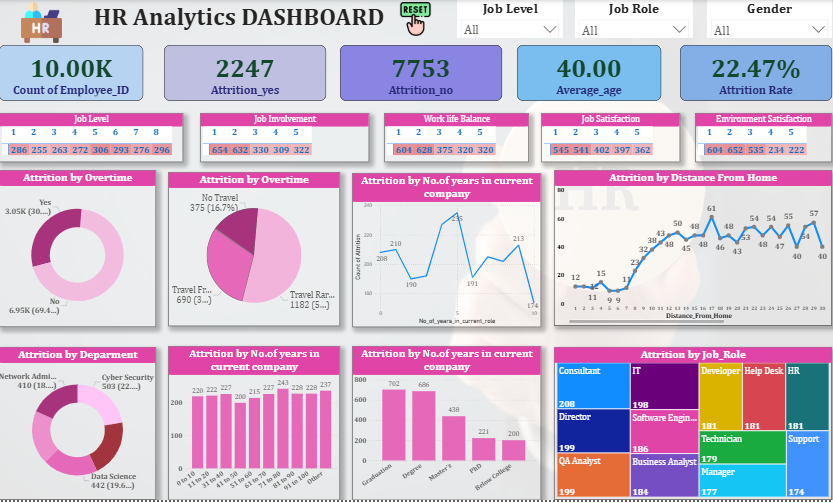

What the dashboard file says about the page in this screenshot:
{"tool":"powerbi","page":{"name":"Page 1","canvas":[2000,1200],"ordinal":0},"visuals":[{"type":"card","fields":{"Values":["CountNonNull(HR_Attrition_dataset.Employee_ID)"]},"box":[55.2,108,321.6,134.4],"z":0},{"type":"card","fields":{"Values":["HR_Attrition_dataset.Attrition_yes"]},"box":[475.2,108,304.8,134.4],"z":1000},{"type":"card","fields":{"Values":["HR_Attrition_dataset.Attrition_no"]},"box":[885.6,108,326.4,134.4],"z":2000},{"type":"card","fields":{"Values":["HR_Attrition_dataset.Average_age"]},"box":[1272,108,333.6,134.4],"z":3000},{"type":"card","fields":{"Values":["HR_Attrition_dataset.Attrition Rate"]},"box":[1680,108,288,134.4],"z":4000},{"type":"donutChart","title":"Attrition by Deparment","fields":{"Category":["HR_Attrition_dataset.Department"],"Y":["HR_Attrition_dataset.Attrition_yes"]},"box":[31.5,808.4,346.5,367.5],"z":5000},{"type":"treemap","title":"Attrition by Job_Role","fields":{"Values":["HR_Attrition_dataset.Attrition_yes"],"Group":["HR_Attrition_dataset.Job_Role"]},"box":[1300.8,808.8,667.2,367.2],"z":6000},{"type":"lineChart","title":"Attrition by Distance From Home","fields":{"Y":["HR_Attrition_dataset.Attrition_yes"],"Category":["HR_Attrition_dataset.Distance_From_Home"]},"box":[1300.8,408,667.2,374.4],"z":6001},{"type":"donutChart","title":"Attrition by Overtime","fields":{"Category":["HR_Attrition_dataset.Overtime"],"Y":["CountNonNull(HR_Attrition_dataset.Education)"]},"box":[31.5,406.8,346.5,375.3],"z":6002},{"type":"pivotTable","title":"Environment Satisfaction","fields":{"Values":["HR_Attrition_dataset.Attrition_yes"],"Columns":["HR_Attrition_dataset.Environment_Satisfaction"]},"box":[1634.4,271.2,328.8,117.6],"z":6003},{"type":"pivotTable","title":"Job Satisfaction","fields":{"Values":["HR_Attrition_dataset.Attrition_yes"],"Columns":["HR_Attrition_dataset.Job_Satisfaction"]},"box":[1288.4,271.2,300,117.6],"z":6004},{"type":"pivotTable","title":"Work life Balance","fields":{"Values":["HR_Attrition_dataset.Attrition_yes"],"Columns":["HR_Attrition_dataset.Work_life_balance"]},"box":[942.4,271.2,300,117.6],"z":6005},{"type":"pieChart","title":"Attrition by Overtime","fields":{"Category":["HR_Attrition_dataset.Business_Travel"],"Y":["HR_Attrition_dataset.Attrition_yes"]},"box":[396.3,412.1,309.7,370.1],"z":6006},{"type":"lineChart","title":"Attrition by No.of years in current company","fields":{"Y":["CountNonNull(HR_Attrition_dataset.Attrition)"],"Category":["HR_Attrition_dataset.No_of_years_in_current_role"]},"box":[721.8,412.1,551.2,372.7],"z":6007},{"type":"columnChart","title":"Attrition by No.of years in current company","fields":{"Y":["HR_Attrition_dataset.Attrition_yes"],"Category":["HR_Attrition_dataset.Salary_Hike_in_percent (groups)"]},"box":[396.3,808.4,412.1,370.1],"z":6008},{"type":"columnChart","title":"Attrition by No.of years in current company","fields":{"Y":["HR_Attrition_dataset.Attrition_yes"],"Category":["HR_Attrition_dataset.Education"]},"box":[818.9,808.4,454.1,370.1],"z":6009},{"type":"pivotTable","title":"Job Involvement","fields":{"Values":["HR_Attrition_dataset.Attrition_yes"],"Columns":["HR_Attrition_dataset.Job_Involvement"]},"box":[597.2,270.3,299.2,118.1],"z":6010},{"type":"pivotTable","title":"Job Level","fields":{"Values":["HR_Attrition_dataset.Attrition_yes"],"Columns":["HR_Attrition_dataset.Job_Level"]},"box":[55.1,270.3,496.1,118.1],"z":6011},{"type":"textbox","box":[204.7,0,745.4,91.9],"z":6012},{"type":"image","box":[31.5,13.1,204.7,78.7],"z":6013},{"type":"slicer","title":"Job Role","fields":{"Values":["HR_Attrition_dataset.Job_Role"]},"box":[1044.6,0,228.3,91.9],"z":6014},{"type":"slicer","title":"Job Role","fields":{"Values":["HR_Attrition_dataset.Job_Role"]},"box":[1359.6,0,228.3,91.9],"z":6015},{"type":"slicer","title":"Job Role","fields":{"Values":["HR_Attrition_dataset.Gender"]},"box":[1635.2,0,228.3,91.9],"z":6016}]}

Visuals, with their boxes in screenshot pixels (x1, y1, x2, y2), scaled from the page's 2000x1200 canvas onto the 833x503 screenshot:
card - CountNonNull(HR_Attrition_dataset.Employee_ID): select_region(23, 45, 157, 102)
card - HR_Attrition_dataset.Attrition_yes: select_region(198, 45, 325, 102)
card - HR_Attrition_dataset.Attrition_no: select_region(369, 45, 505, 102)
card - HR_Attrition_dataset.Average_age: select_region(530, 45, 669, 102)
card - HR_Attrition_dataset.Attrition Rate: select_region(700, 45, 820, 102)
"Attrition by Deparment" donutChart: select_region(13, 339, 157, 493)
"Attrition by Job_Role" treemap: select_region(542, 339, 820, 493)
"Attrition by Distance From Home" lineChart: select_region(542, 171, 820, 328)
"Attrition by Overtime" donutChart: select_region(13, 171, 157, 328)
"Environment Satisfaction" pivotTable: select_region(681, 114, 818, 163)
"Job Satisfaction" pivotTable: select_region(537, 114, 662, 163)
"Work life Balance" pivotTable: select_region(393, 114, 517, 163)
"Attrition by Overtime" pieChart: select_region(165, 173, 294, 328)
"Attrition by No.of years in current company" lineChart: select_region(301, 173, 530, 329)
"Attrition by No.of years in current company" columnChart: select_region(165, 339, 337, 494)
"Attrition by No.of years in current company" columnChart: select_region(341, 339, 530, 494)
"Job Involvement" pivotTable: select_region(249, 113, 373, 163)
"Job Level" pivotTable: select_region(23, 113, 230, 163)
textbox: select_region(85, 0, 396, 39)
image: select_region(13, 5, 98, 38)
"Job Role" slicer: select_region(435, 0, 530, 39)
"Job Role" slicer: select_region(566, 0, 661, 39)
"Job Role" slicer: select_region(681, 0, 776, 39)
